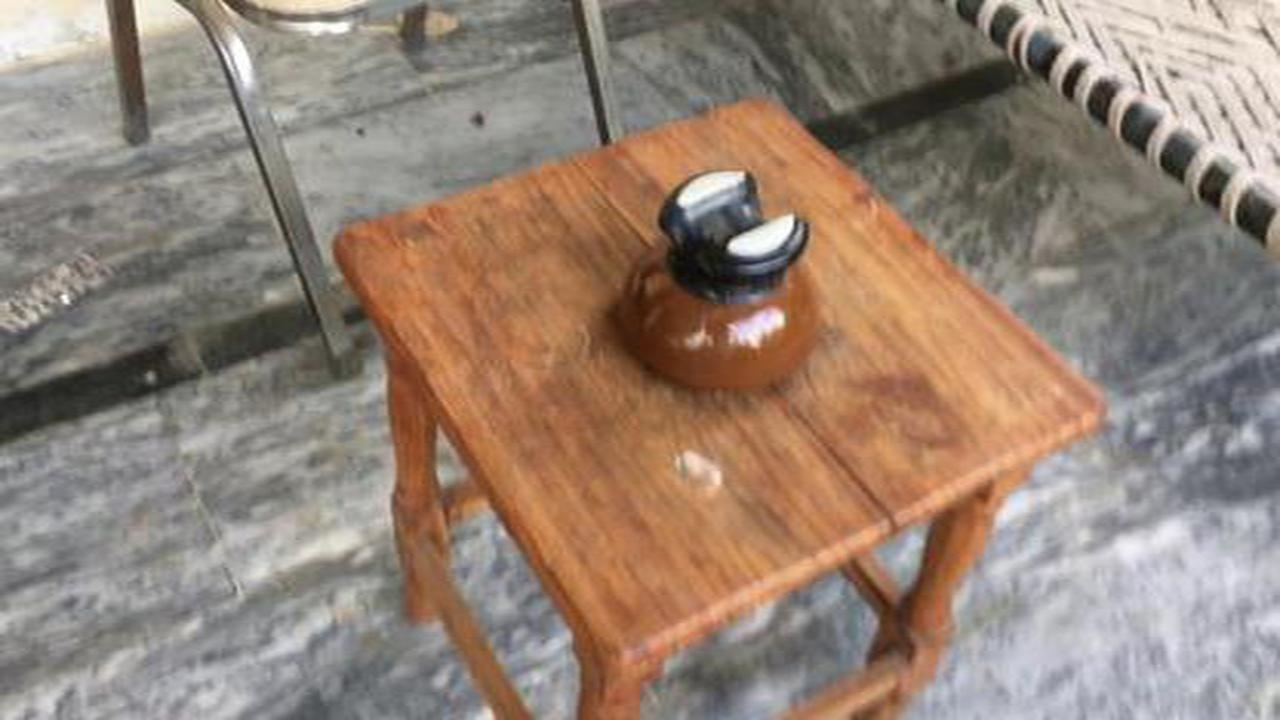insulator_pin: (594, 155, 841, 418)
